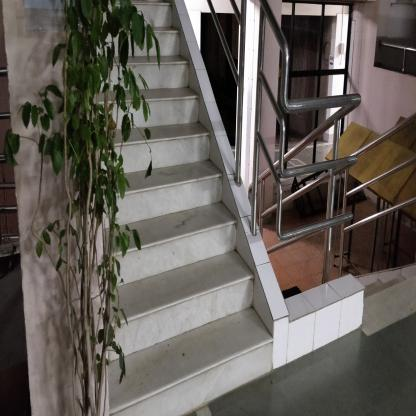stairs: (123, 189, 221, 416)
